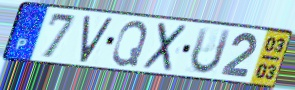2: (218, 31, 260, 80)
7: (42, 11, 76, 59)
Q: (110, 19, 150, 68)
U: (188, 26, 234, 76)
V: (78, 15, 115, 64)
X: (140, 21, 190, 73)
